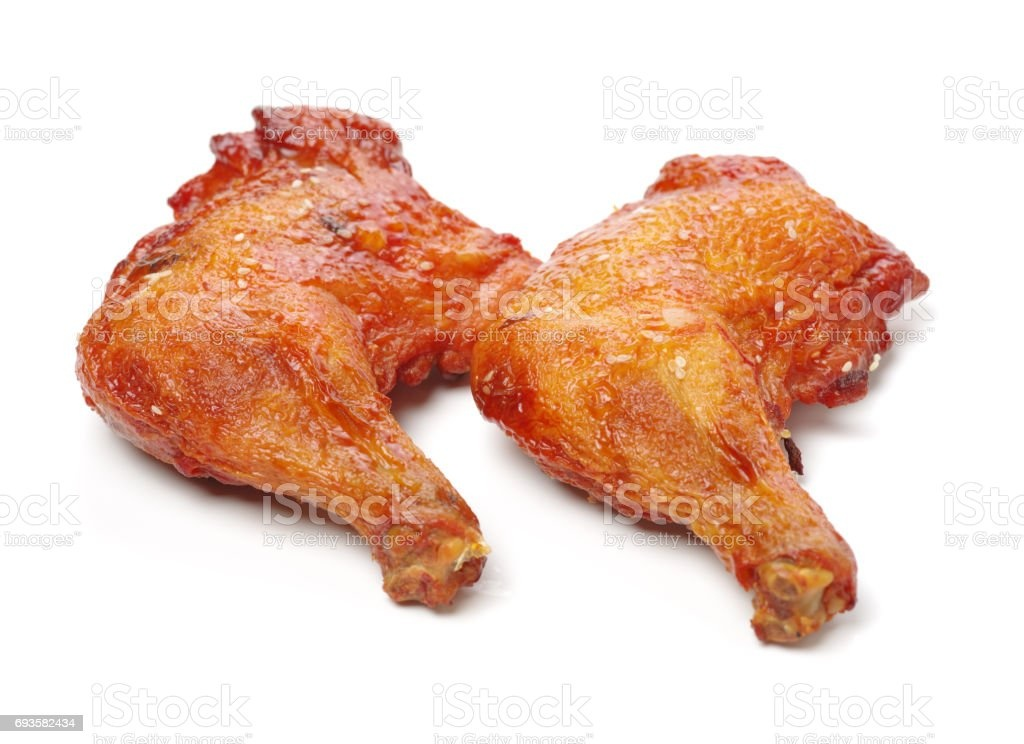ayam_goreng: (66, 81, 563, 638), (462, 133, 938, 648)
